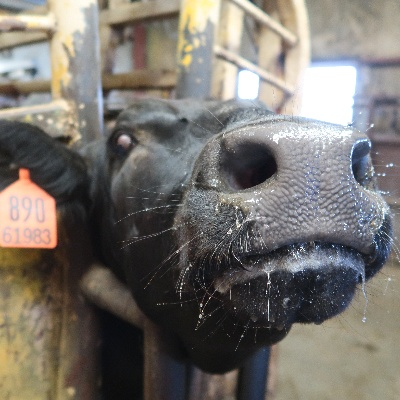fidget_spinner: (202, 121, 385, 258)
